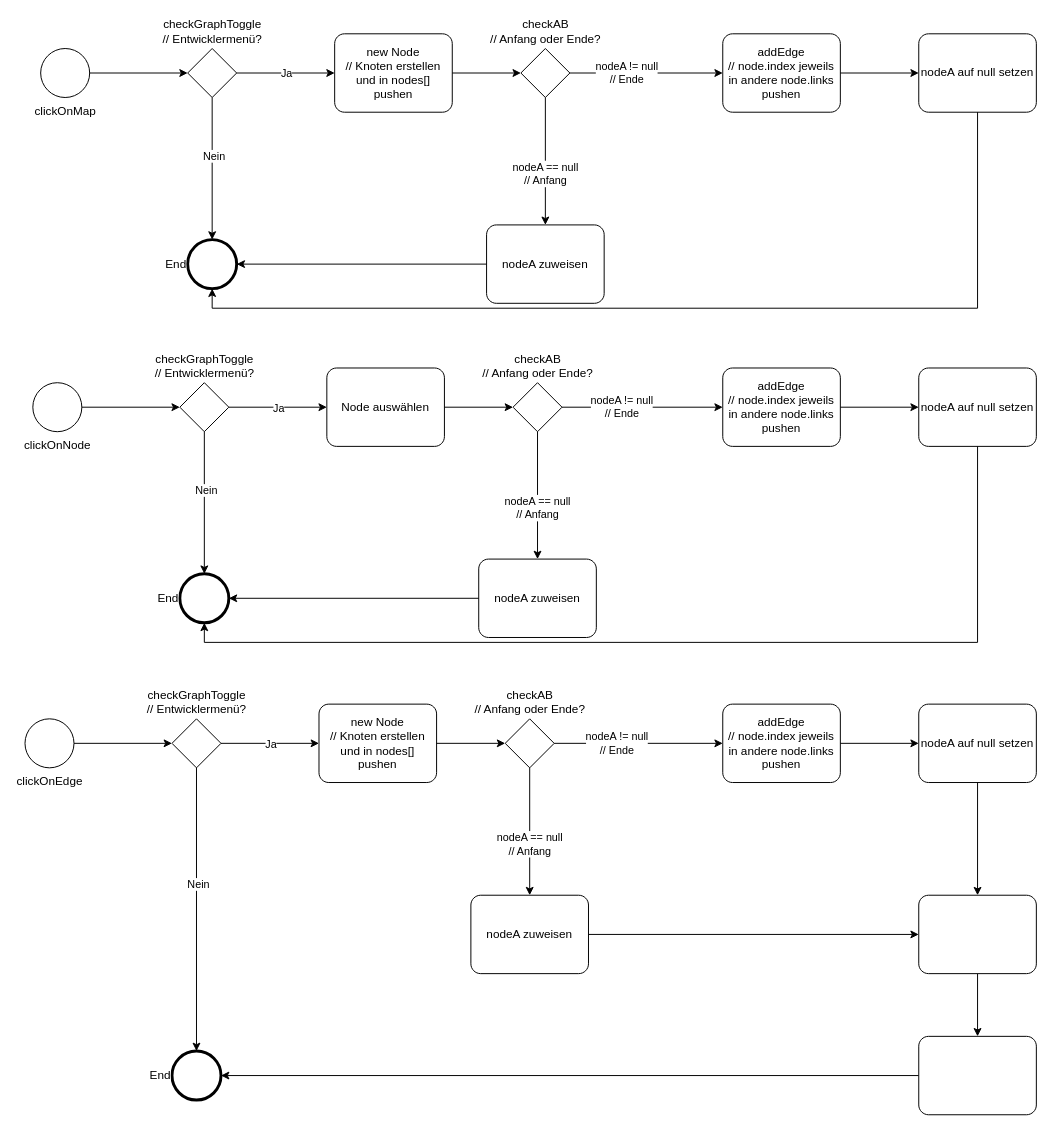
This 1054x1132 diagram has some shape labels left out. The centre of each missing label's shape, as x and y in pixels:
addEdge // Kanten zu neuer Node erstellen: the point at 977,934
Alte Kante inklusive Verbindungen löschen: the point at 977,1075
